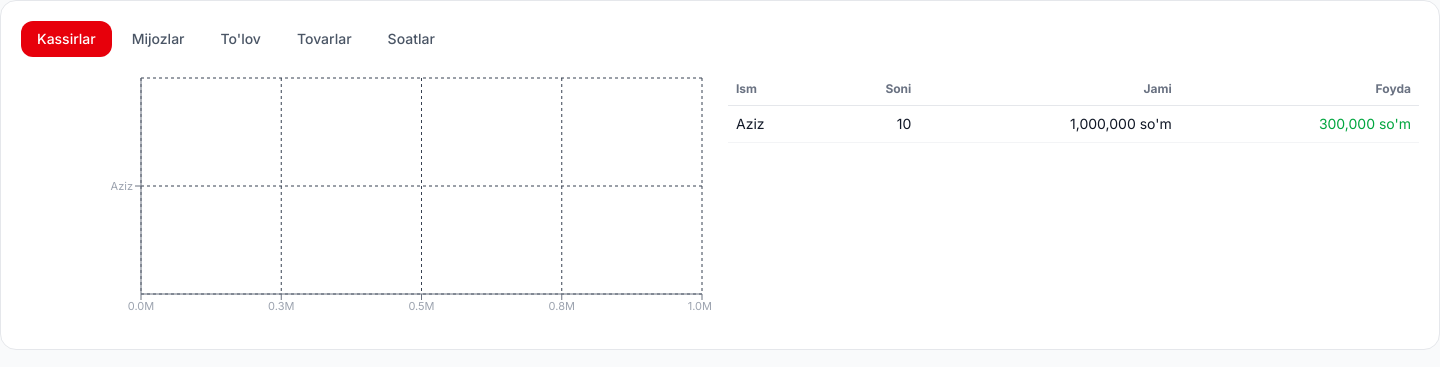
it: BreakdownTabs › Mijozlar tabiga o'tish mijoz ma'lumotini ko'rsatadi
Click the tab "Mijozlar" at (158, 39), box top-left (116, 21), bottom-right (200, 57)
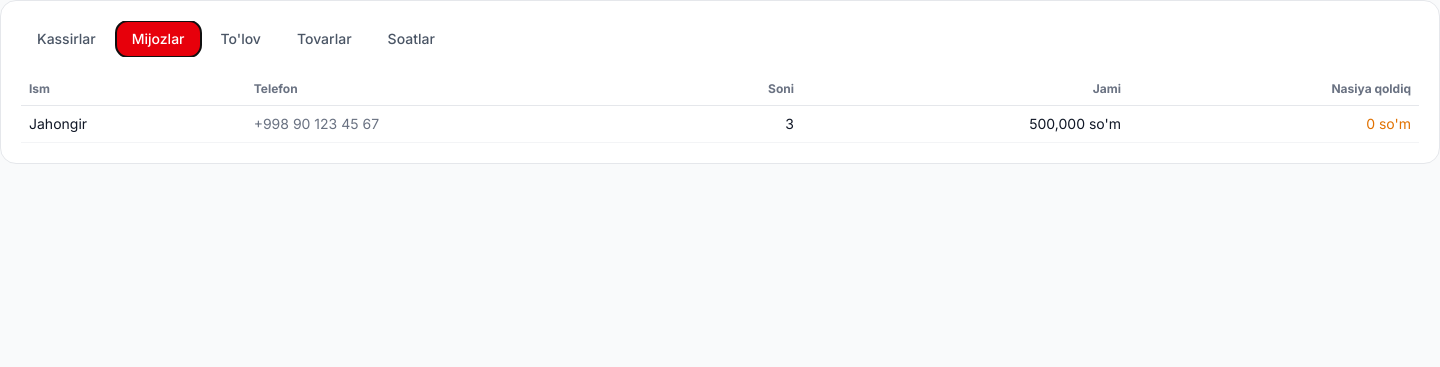
Now the text "Jahongir" is shown, box top-left (21, 106), bottom-right (246, 142)
